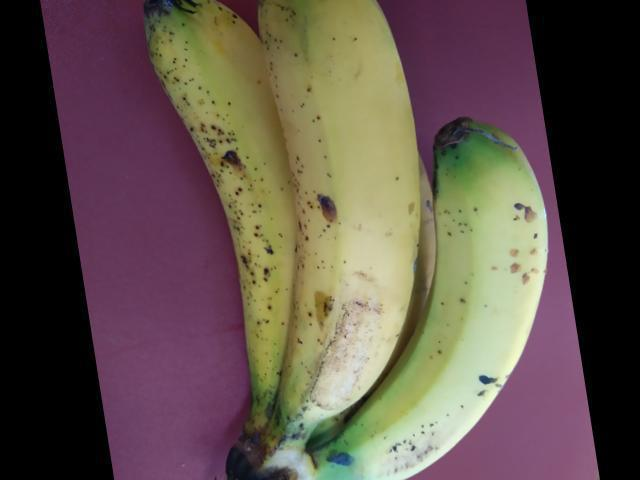ripe: (128, 5, 327, 462), (251, 0, 427, 413), (365, 118, 556, 479)
